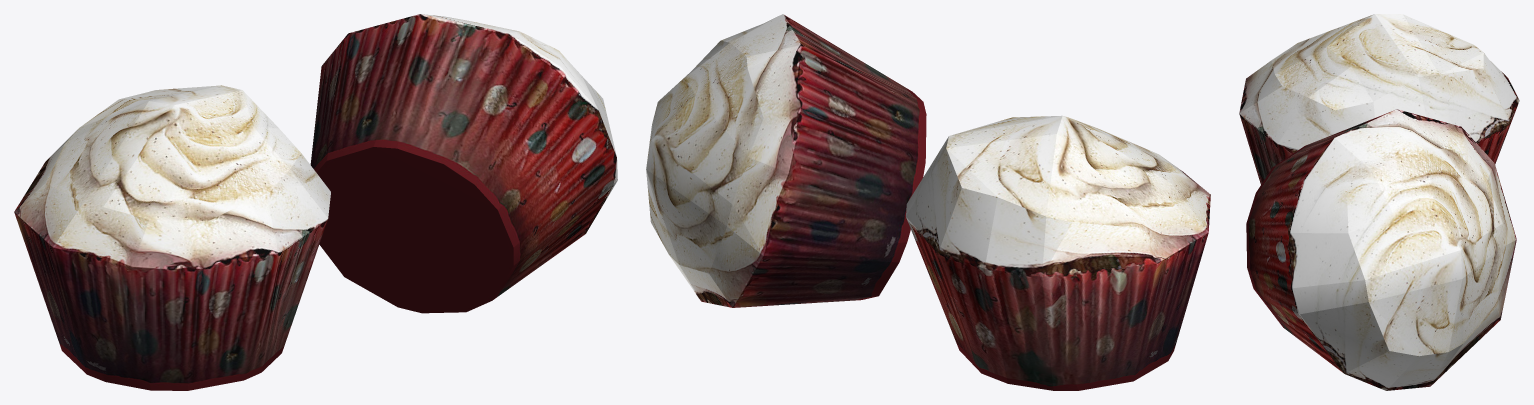
Rendered from cupcake.gltf.
The picture shows the model from 3 angles, left to right: view 1: azimuth 30°, elevation 25°; view 2: azimuth 150°, elevation 25°; view 3: azimuth 270°, elevation 25°; orthographic projection. The views are drawn at different scales.
Parts seen in each view (by area): view 1: Spice Cupcake2, Spice Cupcake1; view 2: Spice Cupcake2, Spice Cupcake1; view 3: Spice Cupcake1, Spice Cupcake2.
Boxes of the visible parts, x1,y1,x2,y2 form: Spice Cupcake2: (14, 85, 330, 390); Spice Cupcake1: (310, 14, 617, 313); Spice Cupcake2: (906, 115, 1210, 390); Spice Cupcake1: (646, 14, 926, 307); Spice Cupcake1: (1246, 109, 1516, 390); Spice Cupcake2: (1239, 14, 1519, 184).
Bounding box in the file's own units: 0.0581 × 0.0267 × 0.0281.
1 material, 1 textured.
